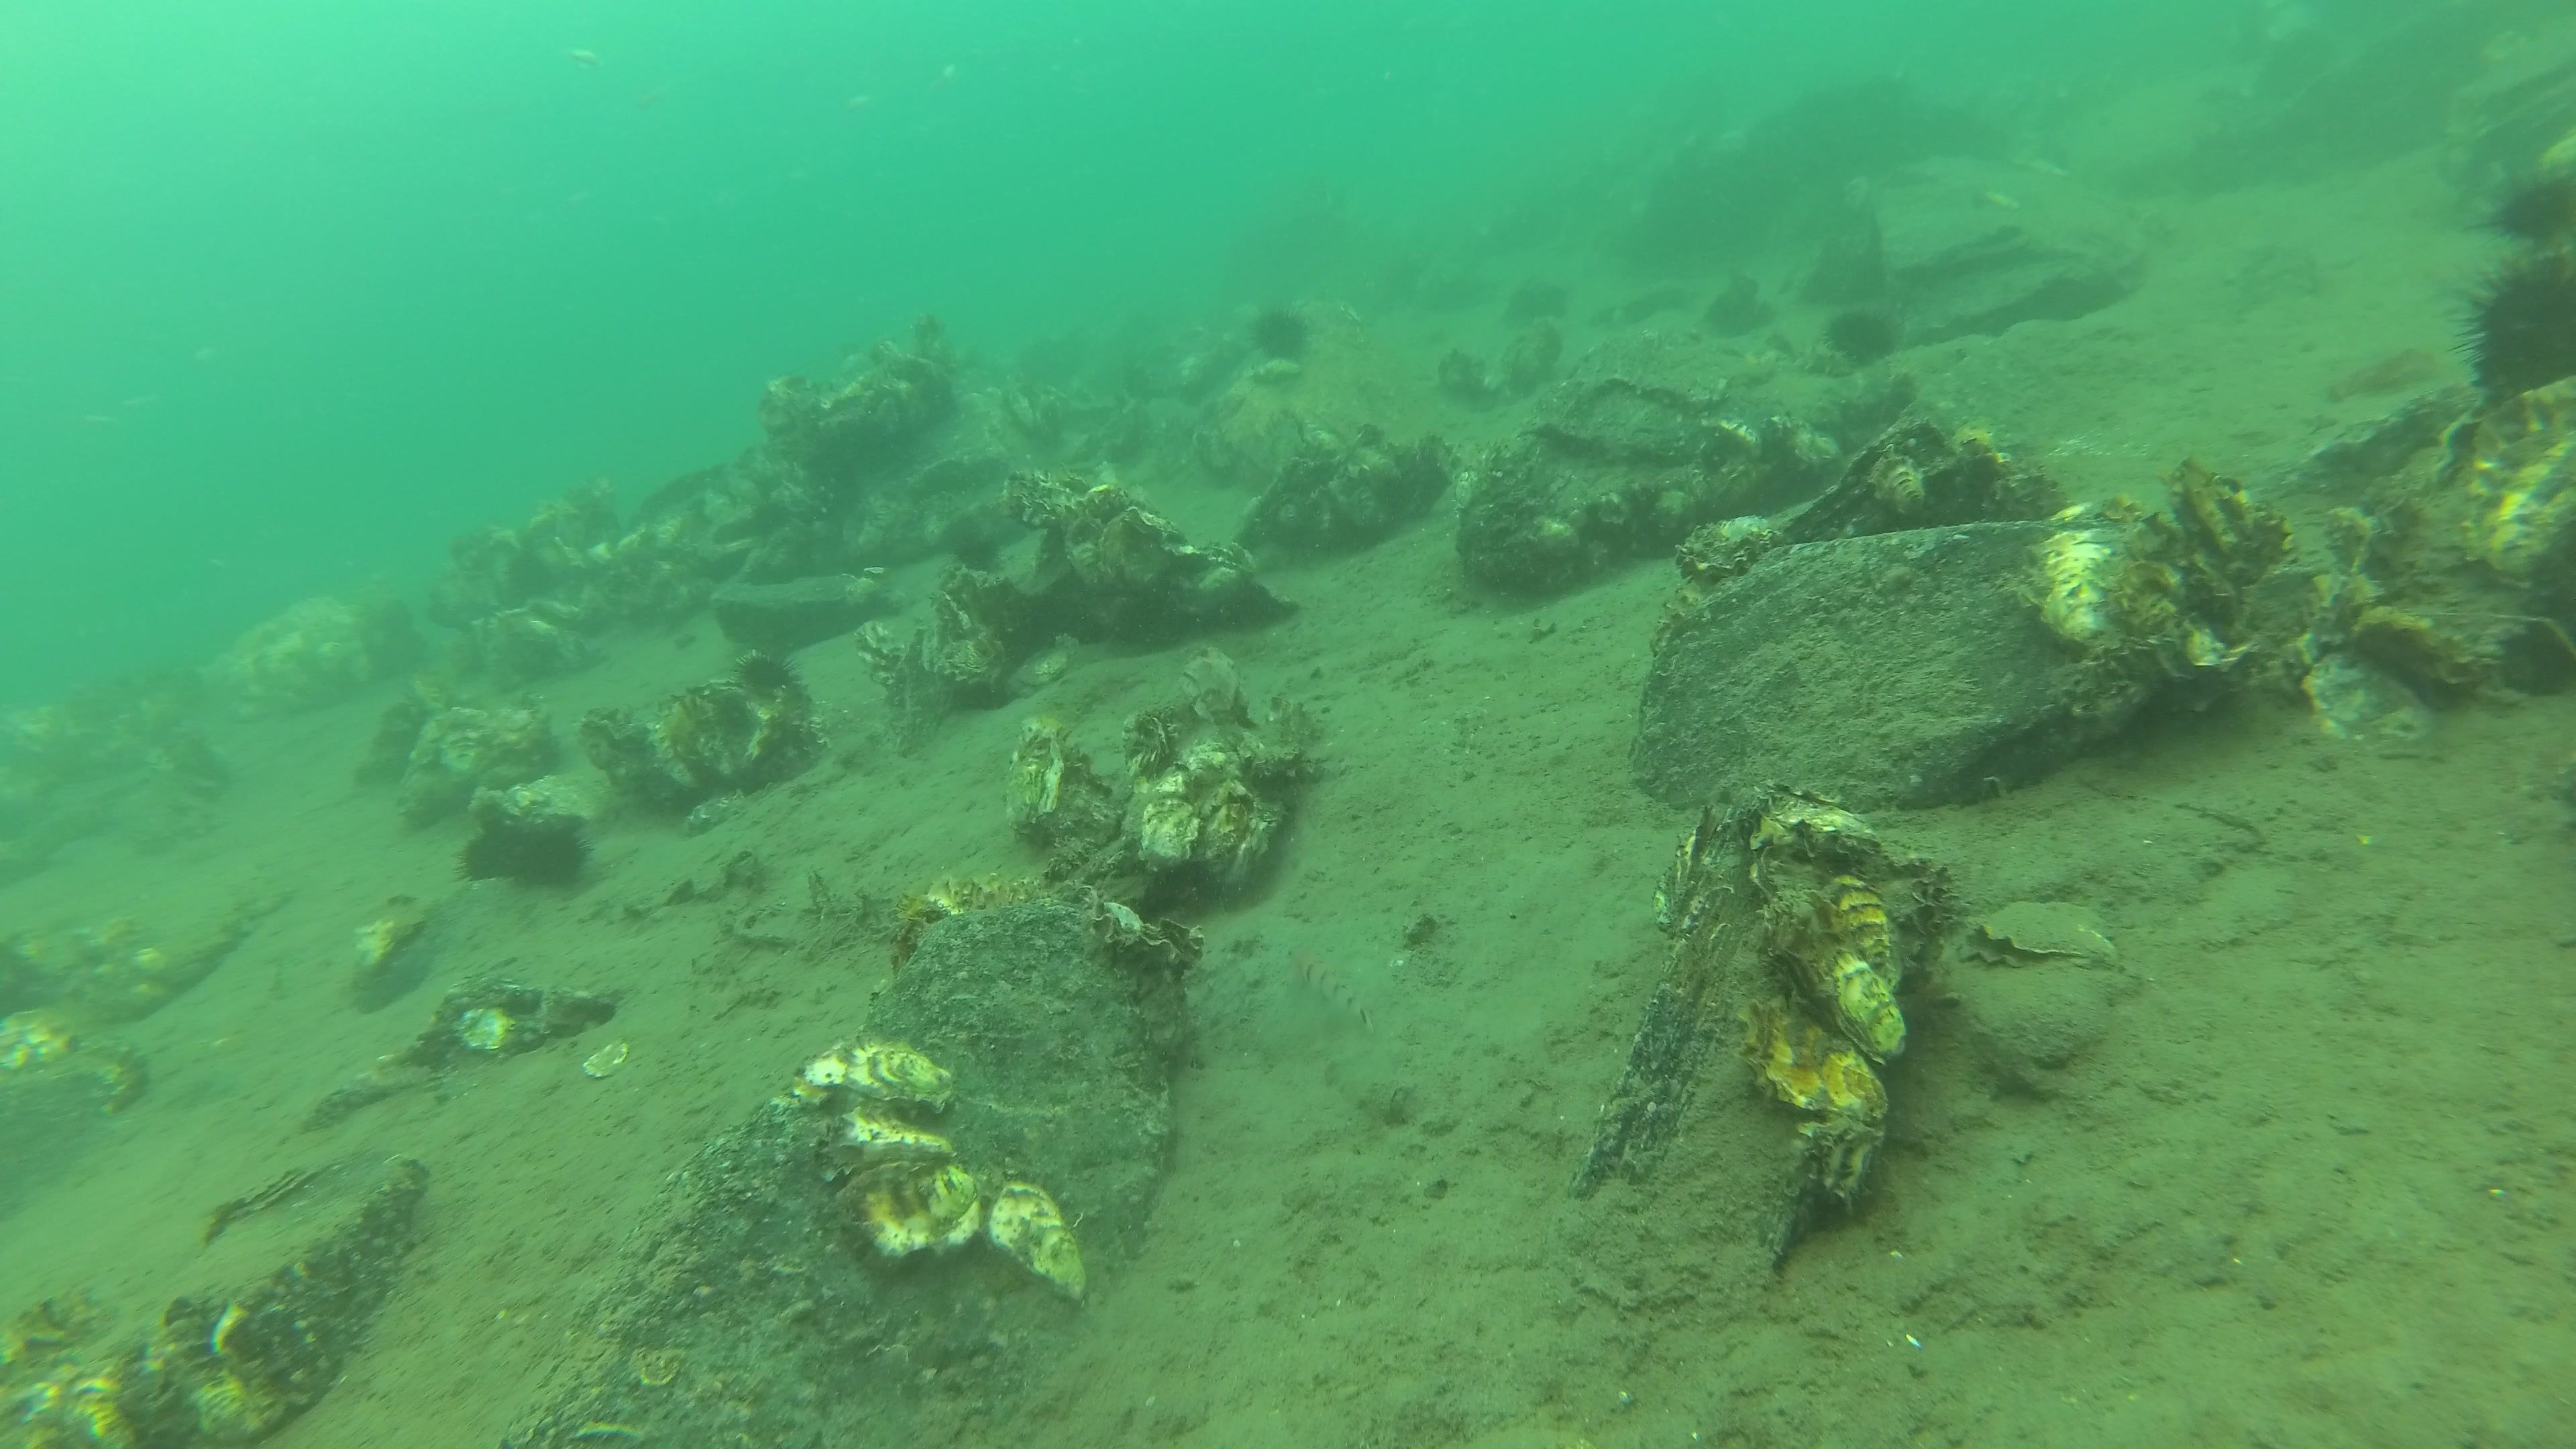echinus: (2456, 249, 2576, 416), (527, 821, 598, 897), (456, 824, 534, 885), (1833, 310, 1907, 361), (734, 646, 805, 699), (1253, 310, 1318, 361), (952, 529, 1012, 575)
